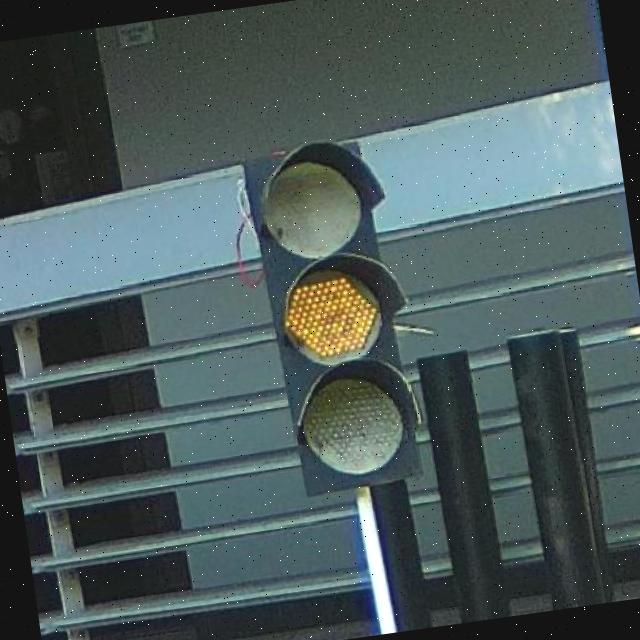yellow_light: (239, 136, 428, 498)
